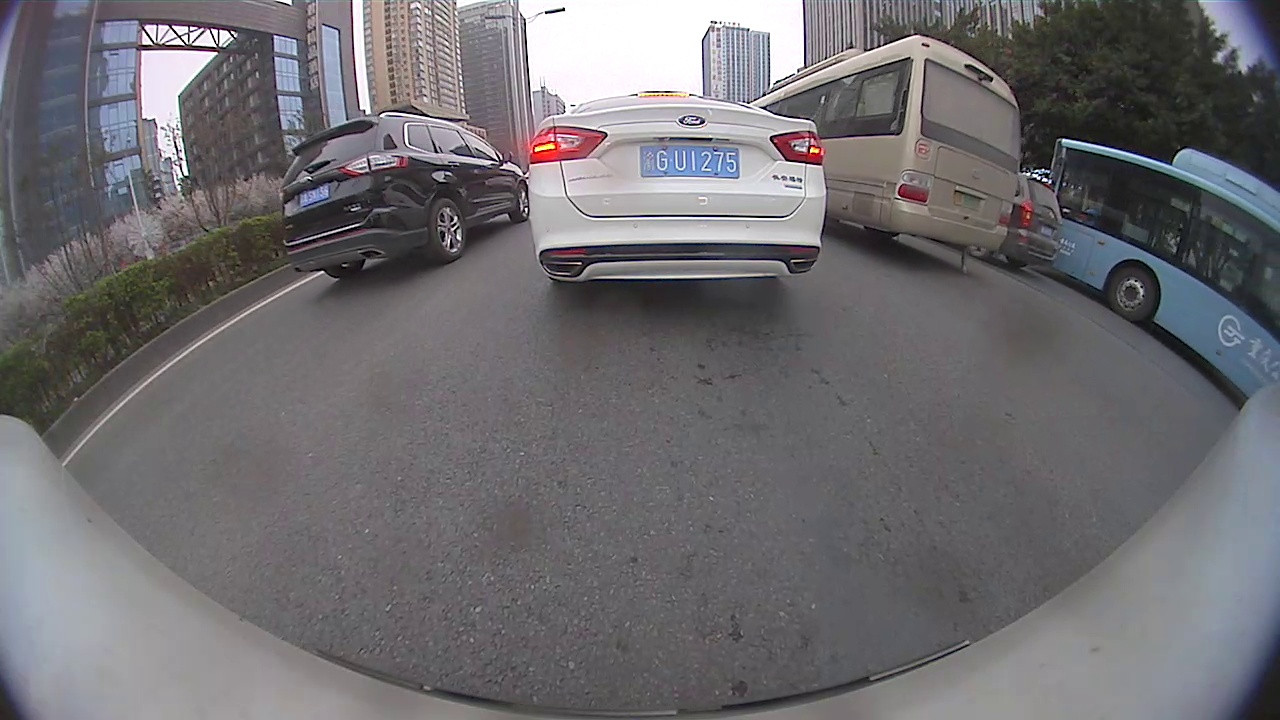bus: (1047, 137, 1279, 398), (747, 34, 1018, 254)
car: (528, 90, 828, 283), (277, 110, 529, 278), (1003, 177, 1064, 269)
front: (1104, 265, 1158, 324), (513, 175, 532, 226)
rear: (427, 197, 468, 262)
